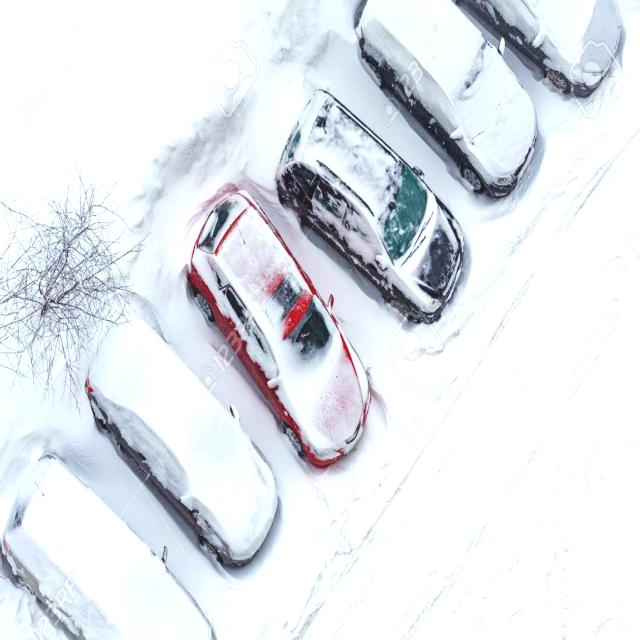car: (190, 188, 372, 471), (85, 315, 278, 567), (276, 90, 465, 326), (1, 454, 211, 640), (353, 0, 537, 197), (458, 0, 620, 96)
